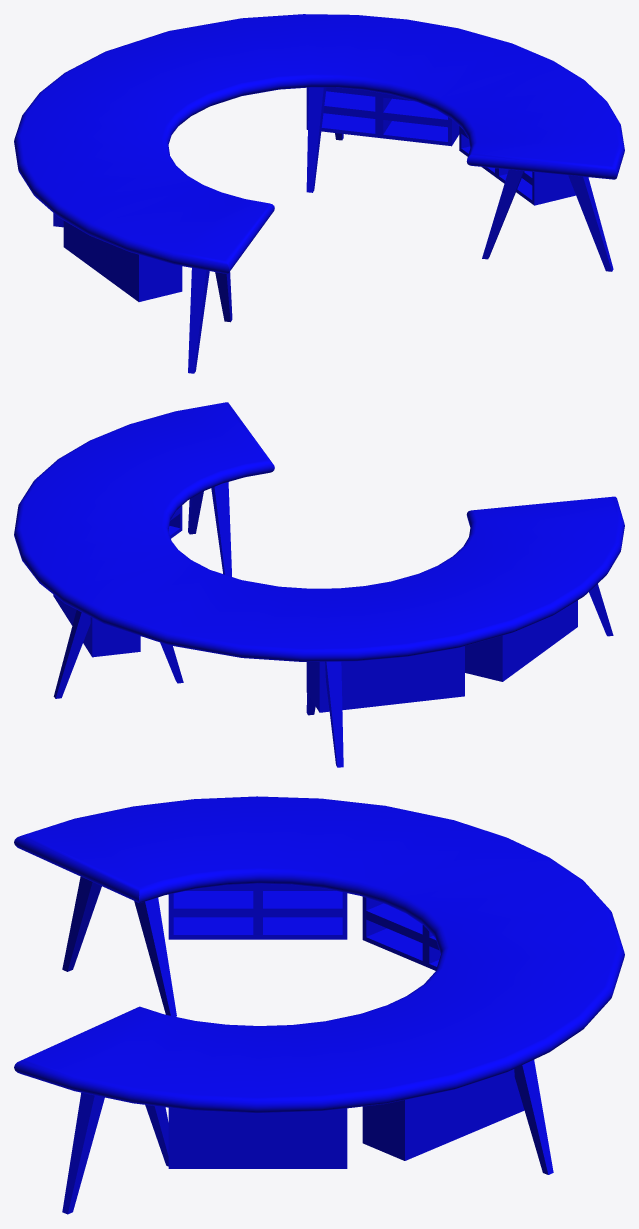
Rendered from Desk.fbx.
3 renders of one model, top to bottom at view 1: azimuth 30°, elevation 25°; view 2: azimuth 150°, elevation 25°; view 3: azimuth 270°, elevation 25°, orthographic. The views are drawn at different scales.
Parts seen in each view (by area): view 1: Desk; view 2: Desk; view 3: Desk.
Part boxes in pixels (left/top/right/bottom): Desk: left=14, top=14, right=624, bottom=373; Desk: left=14, top=402, right=624, bottom=767; Desk: left=14, top=796, right=624, bottom=1214.
Size of the model in its own units: 301 by 65.66 by 253.
